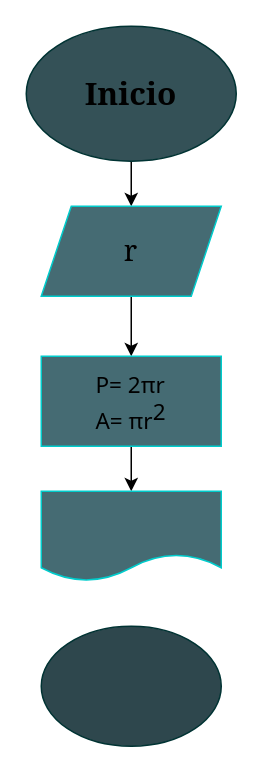
Some shapes in this 263 by 773 pixel diagram are drawn without their labels. Here are the shapes that lost their labels. From the top down, the box of each, then its label:
(40, 490, 221, 581): P, A
(40, 625, 221, 746): FIN
